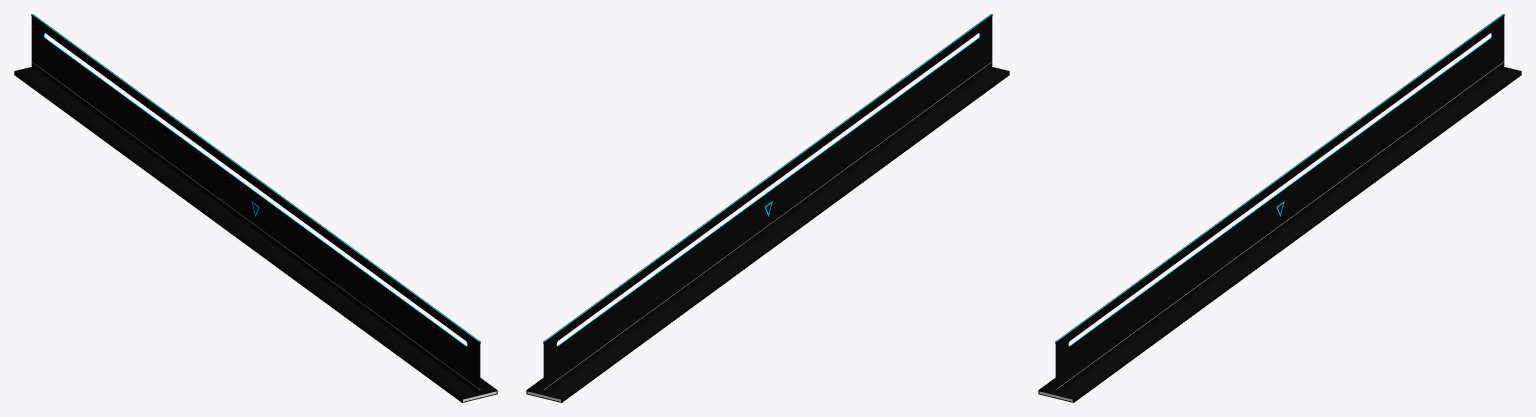
Rendered from W_O_maze_Sign_002_L1.fbx.
The picture shows the model from 3 angles, left to right: view 1: azimuth 30°, elevation 25°; view 2: azimuth 150°, elevation 25°; view 3: azimuth 330°, elevation 25°; orthographic projection.
Visible parts, largest first — view 1: W_O_maze_Sign_002_L1; view 2: W_O_maze_Sign_002_L1; view 3: W_O_maze_Sign_002_L1.
Part boxes in pixels (x1,y1,x2,y2): W_O_maze_Sign_002_L1: (14, 14, 497, 402); W_O_maze_Sign_002_L1: (526, 14, 1009, 402); W_O_maze_Sign_002_L1: (1038, 14, 1521, 402).
Size of the model in its own units: 0.308 by 6.74 by 0.4713.
